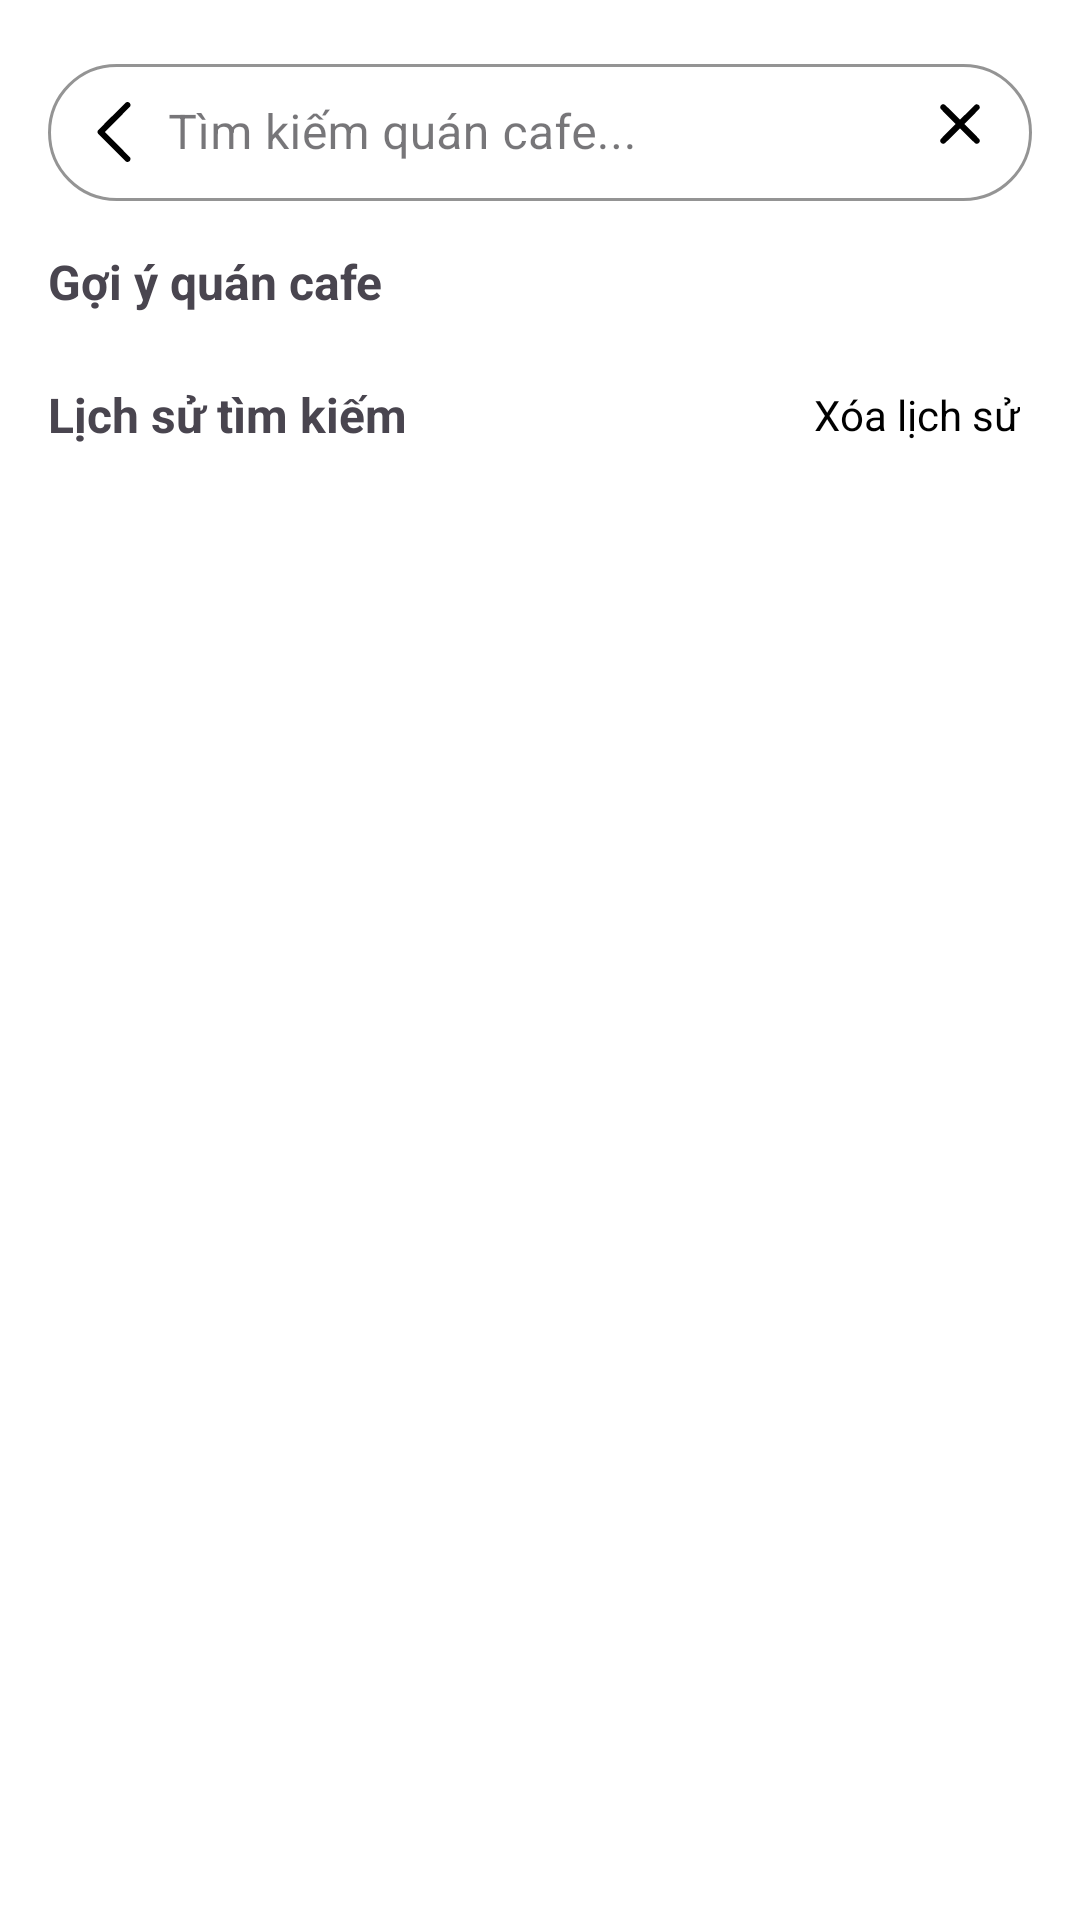

Named icons in this screenshot (1080*1920) and their centers, (x=x, y=y):
Clear search text: (x=960, y=124)
